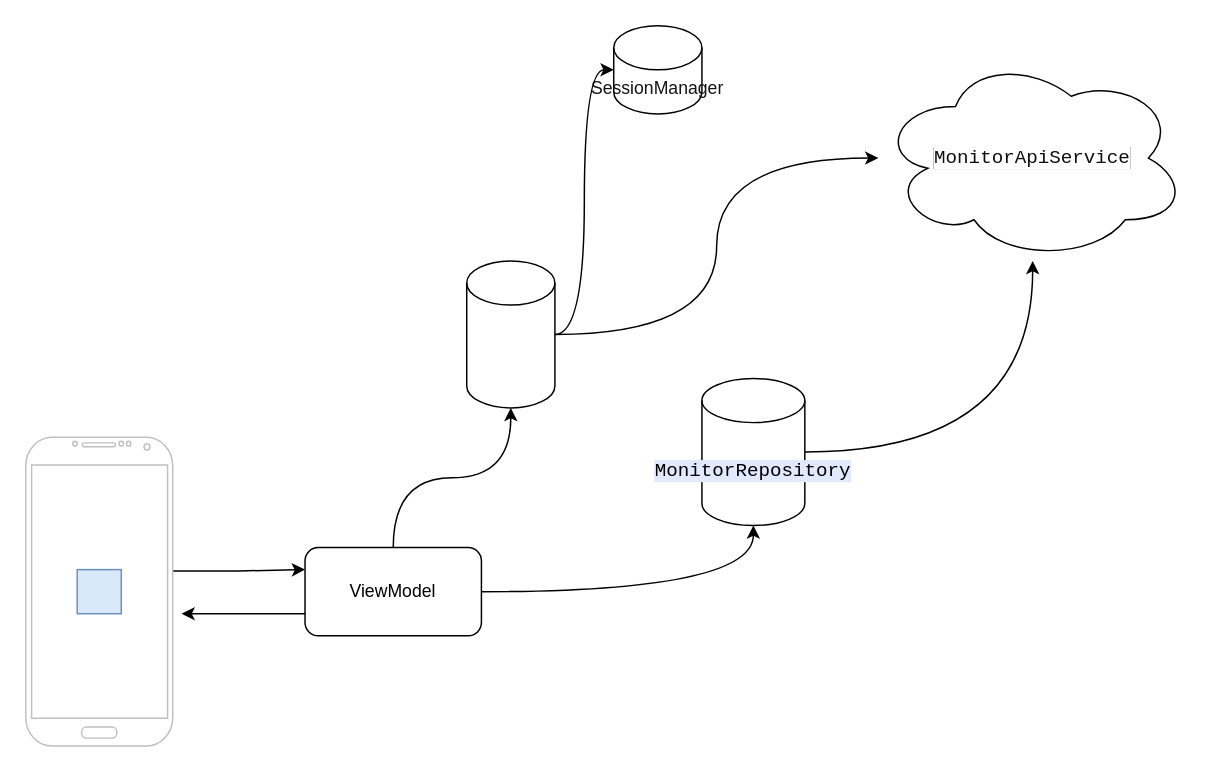
This 1213x772 diagram has some shape labels left out. The centre of each missing label's shape, as x and y in pixels:
"UI" belongs at point 98,591.
"UserRepository" belongs at point 510,333.
